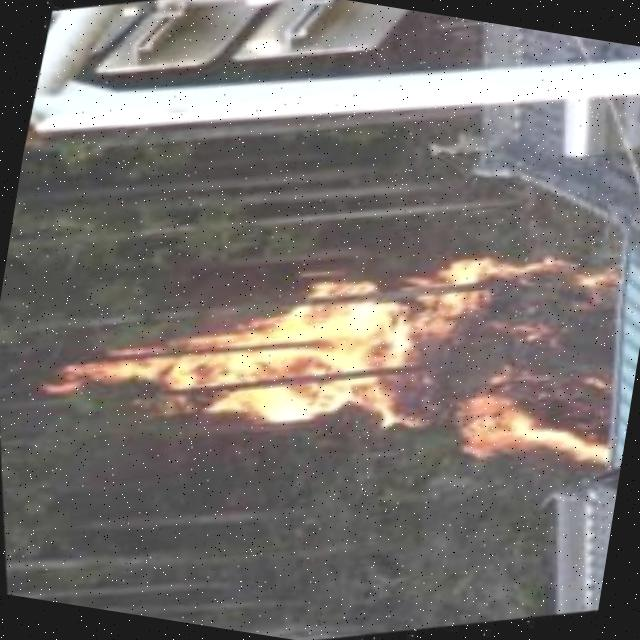fire: (33, 181, 636, 499)
